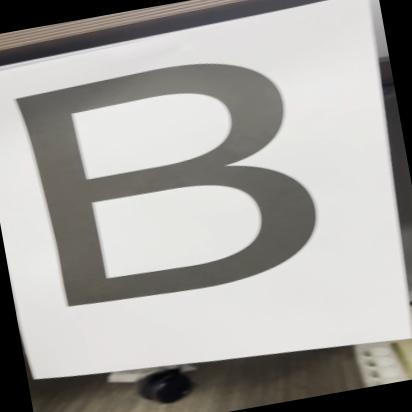seat: (0, 33, 352, 342)
